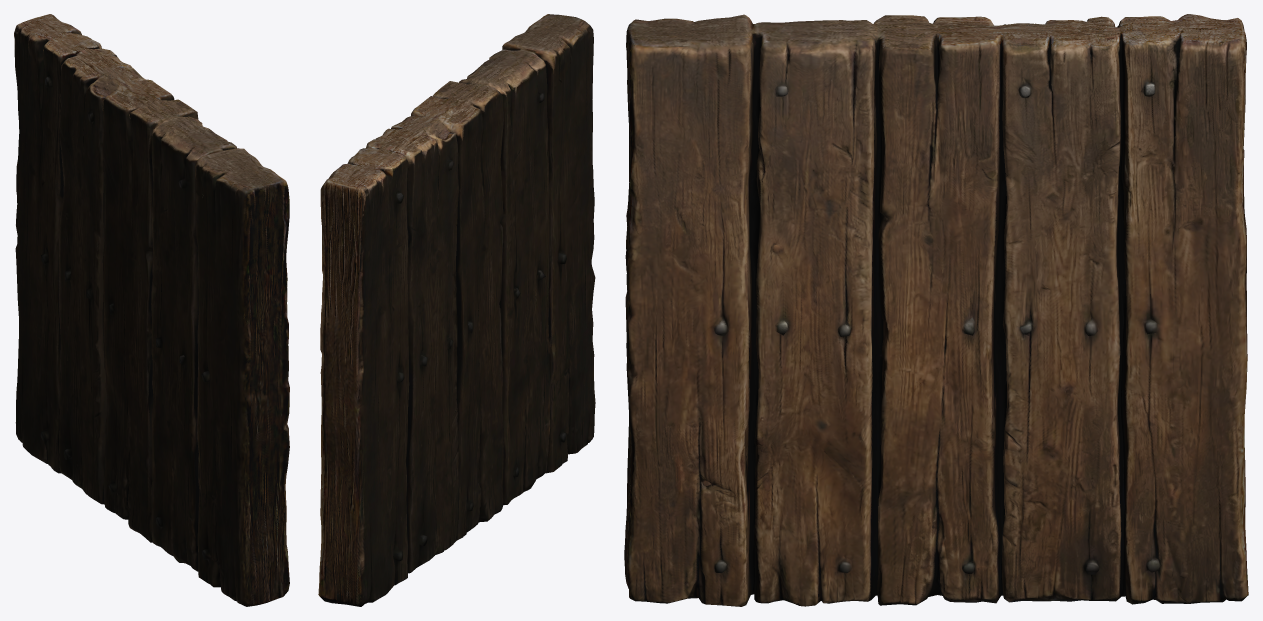
The picture shows the model from 3 angles, left to right: view 1: azimuth 30°, elevation 25°; view 2: azimuth 150°, elevation 25°; view 3: azimuth 270°, elevation 25°; orthographic projection. The views are drawn at different scales.
Parts seen in each view (by area): view 1: tripo_node_9a8b0f65-2fa5-44ce-8b71-fd60d41ad91d; view 2: tripo_node_9a8b0f65-2fa5-44ce-8b71-fd60d41ad91d; view 3: tripo_node_9a8b0f65-2fa5-44ce-8b71-fd60d41ad91d.
Boxes of the visible parts, <box> form: tripo_node_9a8b0f65-2fa5-44ce-8b71-fd60d41ad91d: <box>14,14,289,606</box>; tripo_node_9a8b0f65-2fa5-44ce-8b71-fd60d41ad91d: <box>318,14,595,606</box>; tripo_node_9a8b0f65-2fa5-44ce-8b71-fd60d41ad91d: <box>624,14,1248,606</box>.
Bounding box in the file's own units: 0.1437 × 0.9787 × 0.9803.
Materials: 1 (1 with a texture image).
